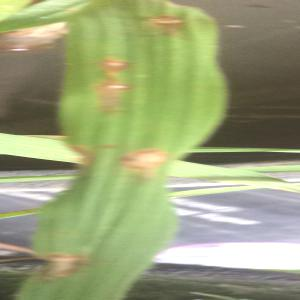1 RiceBlast: (32, 244, 96, 285), (115, 138, 173, 183), (139, 7, 192, 47), (93, 76, 136, 114), (96, 50, 139, 77)
